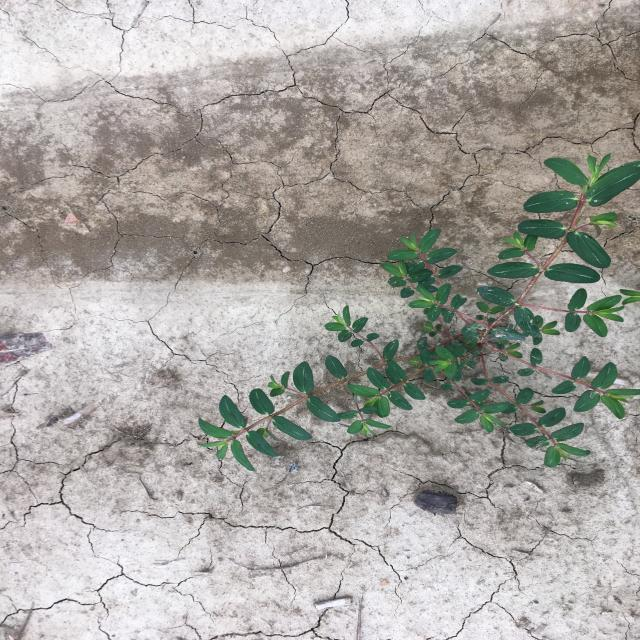SpottedSpurge: (197, 153, 640, 472)
